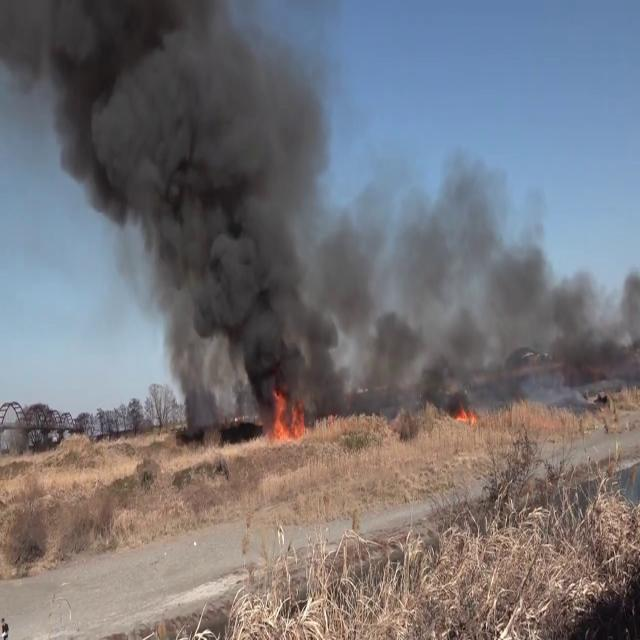Fire: (264, 376, 308, 446), (453, 394, 480, 425)
Smoke: (28, 0, 346, 415), (351, 146, 640, 400)
